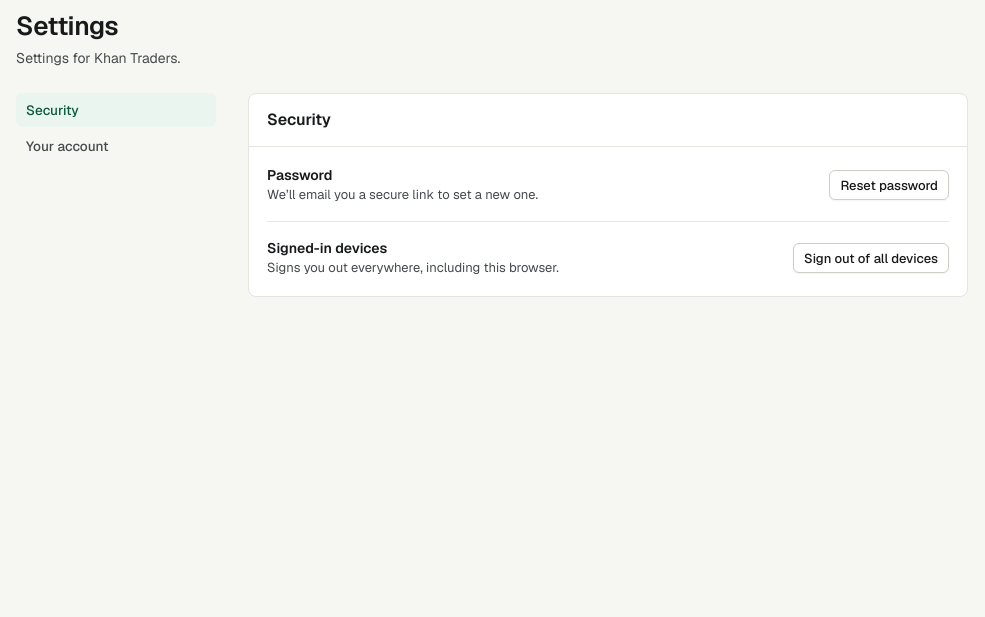
Test: Settings (R9) › hides the business profile from Staff but keeps security and account
The width and height of the screenshot is (985, 617).
Check: the heading "Security" is shown, box [267,108,331,132]
Step 1. Click the button "Your account" → point(116, 146), box [16,129,216,163]
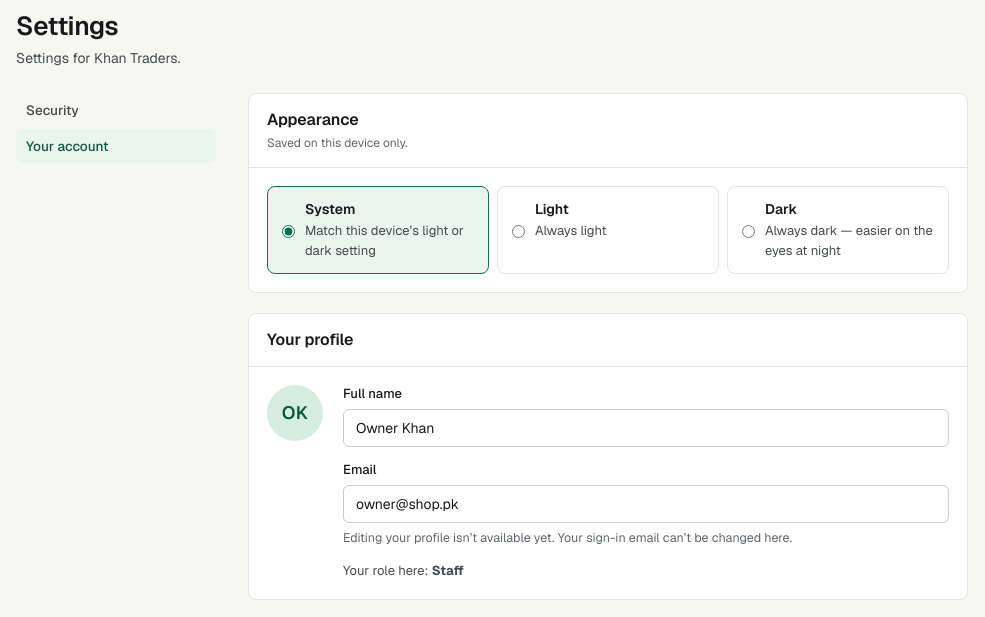
Check: the field labelled "Email" holds "owner@shop.pk", box [343,485,949,523]
Check: the text "Staff" is shown, box [432,562,464,579]
